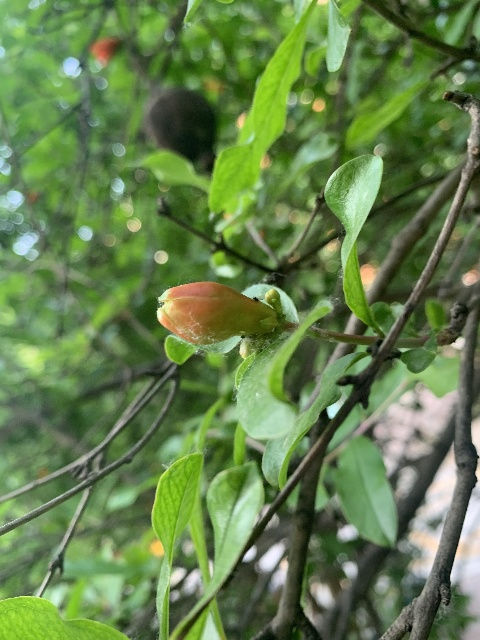bud: (156, 281, 276, 344)
